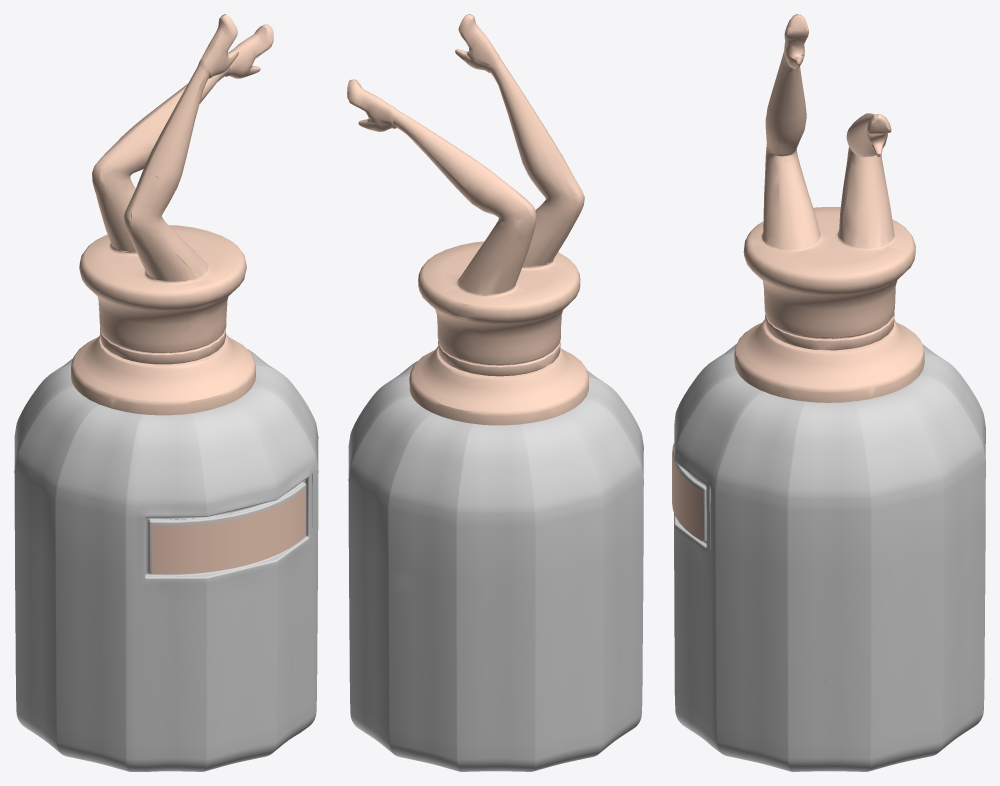
3 views of the same model, side by side, from view 1: azimuth 30°, elevation 25°; view 2: azimuth 150°, elevation 25°; view 3: azimuth 270°, elevation 25° (orthographic). The views are drawn at different scales.
Parts seen in each view (by area): view 1: Parfum_Scandal_Femme_Glass, Parfum_Scandal_Femme_Metal, Parfum_Scandal_Femme_Text; view 2: Parfum_Scandal_Femme_Glass, Parfum_Scandal_Femme_Metal; view 3: Parfum_Scandal_Femme_Glass, Parfum_Scandal_Femme_Metal, Parfum_Scandal_Femme_Text.
Part boxes in pixels (x1,y1,x2,y2): Parfum_Scandal_Femme_Glass: [14, 349, 318, 771]; Parfum_Scandal_Femme_Metal: [71, 14, 273, 415]; Parfum_Scandal_Femme_Text: [151, 488, 305, 574]; Parfum_Scandal_Femme_Glass: [348, 361, 643, 771]; Parfum_Scandal_Femme_Metal: [347, 14, 588, 425]; Parfum_Scandal_Femme_Glass: [673, 343, 985, 771]; Parfum_Scandal_Femme_Metal: [734, 14, 924, 402]; Parfum_Scandal_Femme_Text: [672, 443, 702, 541].
Bounding box in the file's own units: 0.2324 × 0.5917 × 0.2333.
